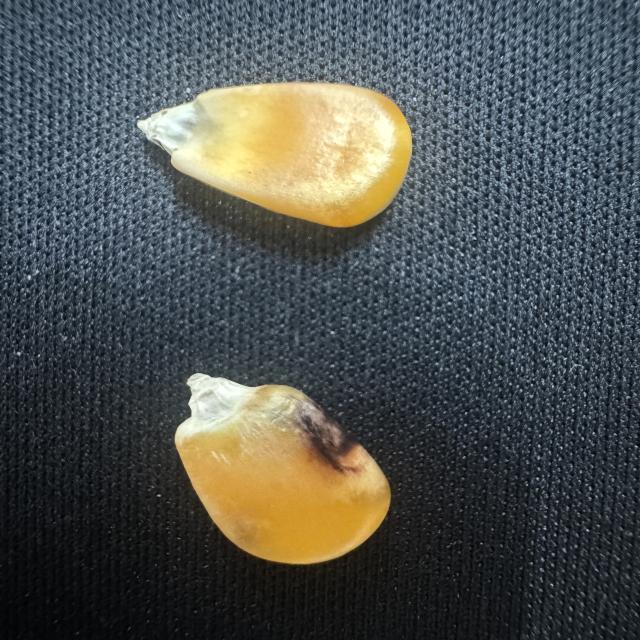Bad-Seed: (170, 367, 397, 570)
Good-Seed: (130, 79, 420, 233)
